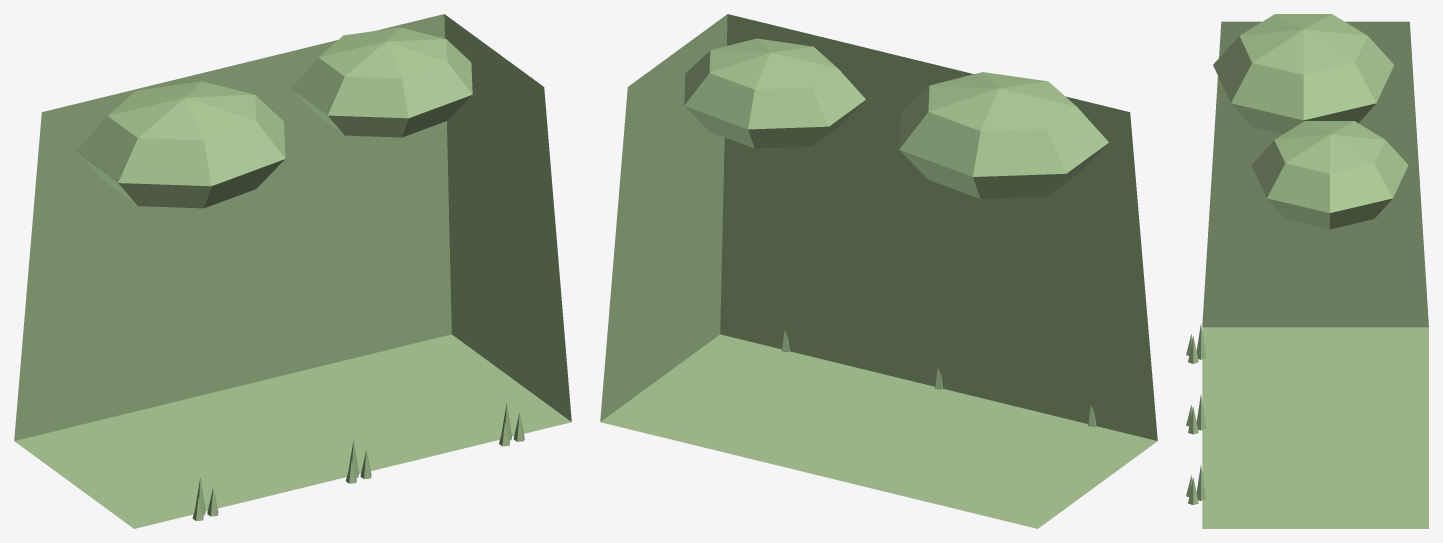
Rendered from caravan-park-and-campsite-hedge-section-1ddb0f77__35382.glb.
3 renders of one model, left to right at view 1: azimuth 30°, elevation 25°; view 2: azimuth 150°, elevation 25°; view 3: azimuth 270°, elevation 25°, orthographic. The views are drawn at different scales.
Visible parts, largest first — view 1: hedge-section-grass; view 2: hedge-section-grass; view 3: hedge-section-grass.
Part boxes in pixels (x1,y1,x2,y2): hedge-section-grass: [14, 14, 571, 528]; hedge-section-grass: [600, 14, 1157, 528]; hedge-section-grass: [1186, 14, 1428, 528].
Bounding box in the file's own units: 2 × 1.6 × 1.02.
